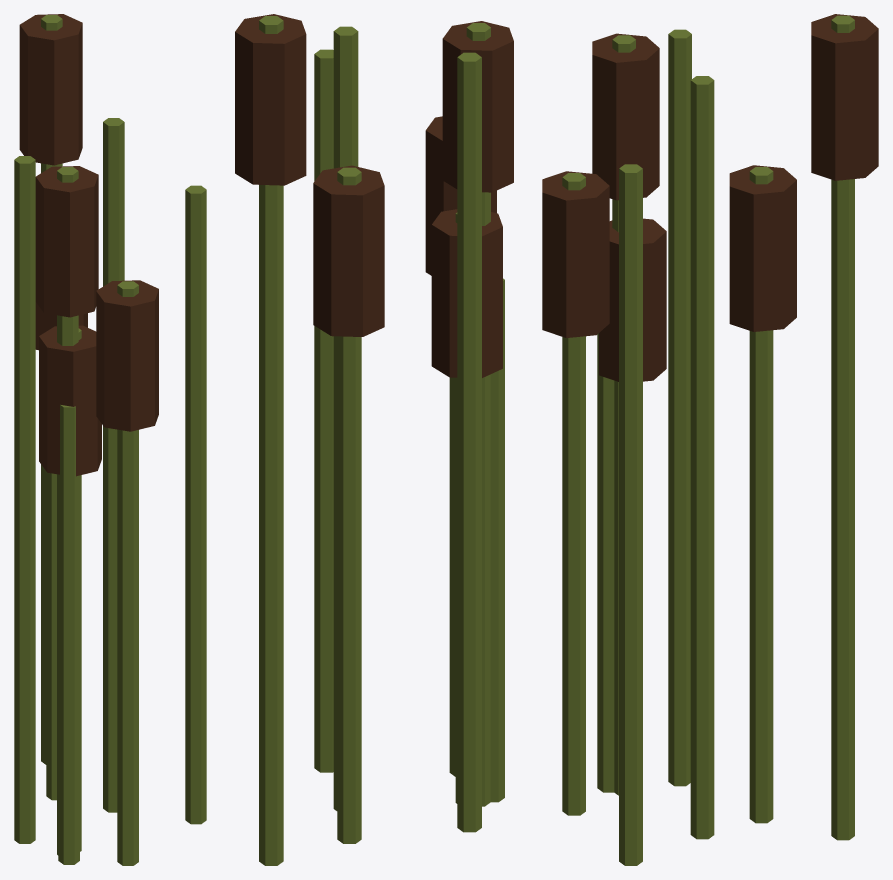
Rendered from reeds_d.glb.
3 renders of one model, left to right at view 1: azimuth 30°, elevation 25°; view 2: azimuth 150°, elevation 25°; view 3: azimuth 270°, elevation 25°, orthographic. The views are drawn at different scales.
Parts seen in each view (by area): view 1: Reed_6.001, Reed_2.003, Reed_1.003, Reed_4.003, Reed_8.001, Cattail_7.001, Cattail_3.003, Cattail_1.003, Cattail_9.001, Reed_5.003, Reed_3.003, Reed_7.001 (+2 smaller); view 2: Reed_6.001, Reed_3.003, Reed_5.003, Cattail_5.003, Cattail_3.003, Reed_2.003, Cattail_7.001, Cattail_9.001, Reed_4.003, Reed_8.001, Reed_7.001, Reed_1.003 (+2 smaller); view 3: Reed_8.001, Reed_6.001, Reed_2.003, Reed_3.003, Reed_5.003, Reed_1.003, Cattail_5.003, Cattail_3.003, Cattail_1.003, Cattail_7.001, Reed_4.003, Cattail_9.001 (+1 smaller).
Boxes of the visible parts, x1,y1,x2,y2 form: Reed_6.001: (14, 156, 35, 843); Reed_2.003: (185, 185, 206, 824); Reed_1.003: (117, 281, 138, 865); Reed_4.003: (58, 404, 79, 864); Reed_8.001: (103, 118, 124, 812); Cattail_7.001: (35, 166, 98, 317); Cattail_3.003: (19, 14, 82, 165); Cattail_1.003: (96, 280, 158, 431); Cattail_9.001: (39, 325, 101, 476); Reed_5.003: (46, 472, 56, 800); Reed_3.003: (41, 15, 62, 764); Reed_7.001: (57, 167, 78, 855); Reed_6.001: (457, 52, 481, 832); Reed_3.003: (259, 16, 283, 865); Reed_5.003: (337, 167, 361, 843); Cattail_5.003: (313, 165, 384, 336); Cattail_3.003: (235, 14, 306, 185); Reed_2.003: (314, 49, 333, 772); Cattail_7.001: (442, 21, 513, 192); Cattail_9.001: (431, 209, 502, 377); Reed_4.003: (490, 278, 504, 802); Reed_8.001: (333, 26, 358, 810); Reed_7.001: (466, 23, 490, 806); Reed_1.003: (449, 377, 455, 776); Reed_8.001: (690, 76, 714, 839); Reed_6.001: (668, 29, 691, 786); Reed_2.003: (619, 164, 642, 865); Reed_3.003: (831, 15, 854, 840); Reed_5.003: (749, 167, 773, 823); Reed_1.003: (562, 173, 585, 815); Cattail_5.003: (729, 165, 796, 331); Cattail_3.003: (811, 14, 878, 180); Cattail_1.003: (542, 171, 609, 337); Cattail_7.001: (592, 33, 659, 200); Reed_4.003: (597, 333, 614, 792); Cattail_9.001: (599, 218, 666, 381).
Size of the model in its own units: 0.4464 by 1.9 by 0.7096.
